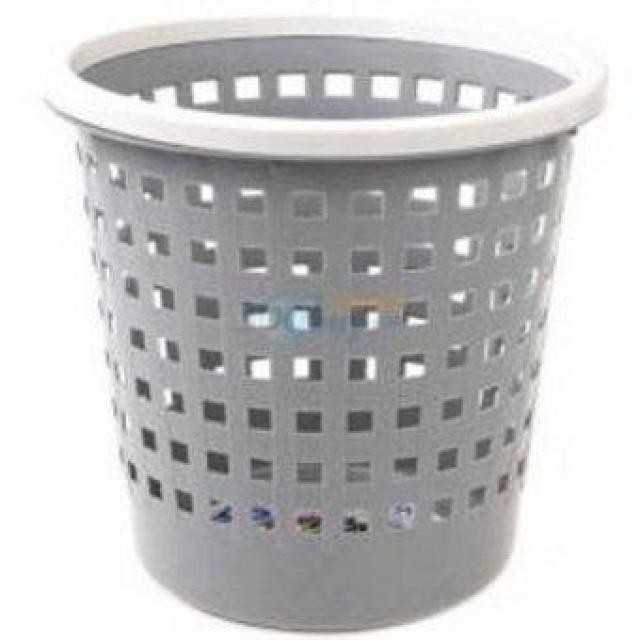Dustbin: (36, 0, 618, 636)
